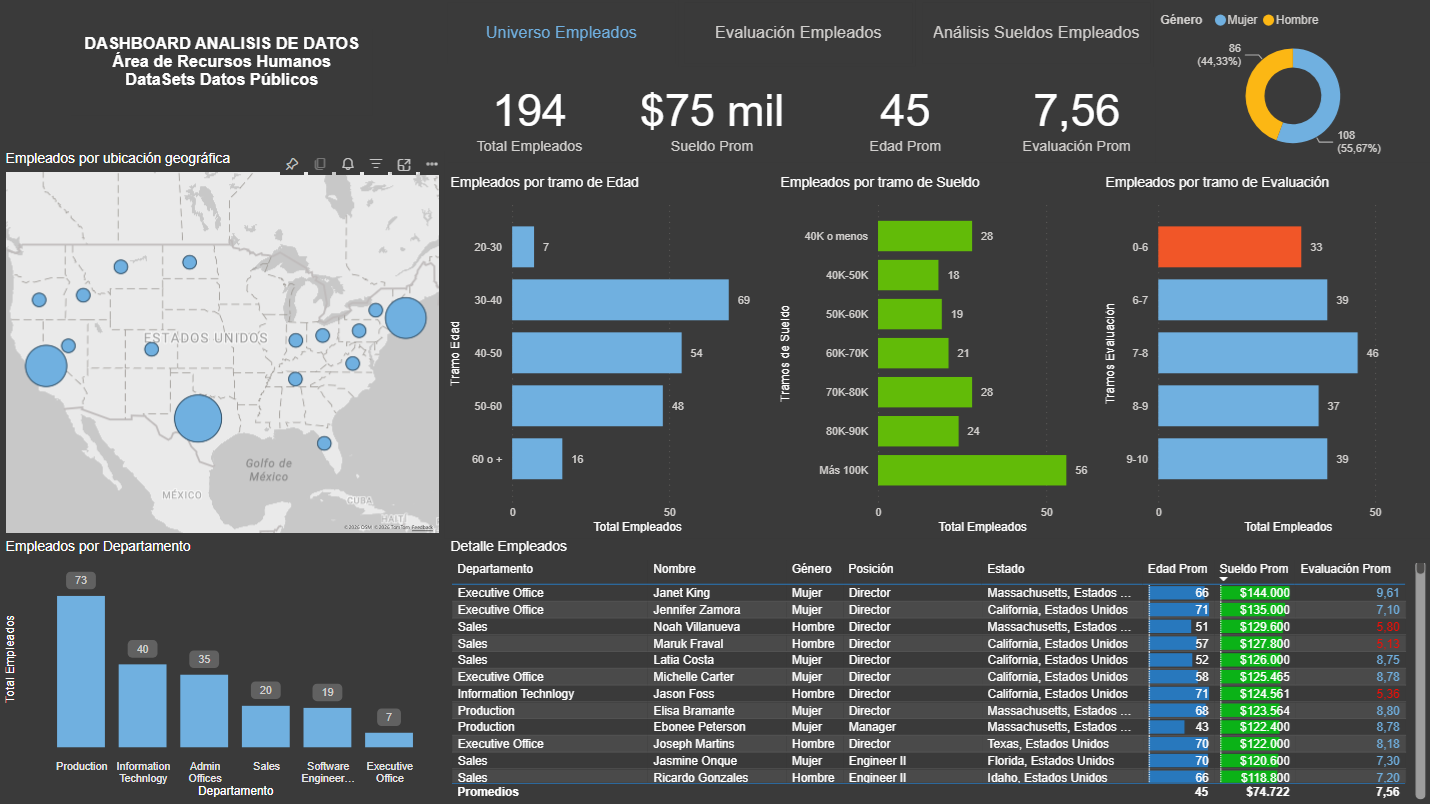

This screenshot's page, from the dashboard's own definition file:
{"tool":"powerbi","page":{"name":"Universo Empleados","canvas":[1280,720],"ordinal":0},"visuals":[{"type":"tableEx","title":"Detalle Empleados","fields":{"Values":["Tabla Empleados.Departamento","Tabla Empleados.Nombre","Tabla Empleados.Géneros","Tabla Empleados.Posición","Tabla Empleados.Estado","Tabla Empleados.Edad Prom","Tabla Sueldo.Sueldo Promedio","Tabla Evaluacion.Evaluación Promedio"]},"box":[397.7,482.9,881.9,237.6],"z":0},{"type":"card","fields":{"Values":["Tabla Empleados.Total Empleados"]},"box":[400.3,63.3,145.9,82.6],"z":1000},{"type":"donutChart","fields":{"Category":["Tabla Empleados.Género_ES"],"Y":["Tabla Empleados.Total Empleados"]},"box":[1033,0,246.6,145.9],"z":2000},{"type":"card","fields":{"Values":["Tabla Sueldo.Sueldo "]},"box":[546.2,63.3,180.8,82.6],"z":3000},{"type":"card","fields":{"Values":["Tabla Evaluacion.Evaluación "]},"box":[892.2,63.3,140.7,82.6],"z":4000},{"type":"card","fields":{"Values":["Tabla Empleados.Edad Prom"]},"box":[726.9,63.3,165.3,82.6],"z":5000},{"type":"barChart","title":"Empleados por tramo de Edad","fields":{"Category":["Tabla Empleados.Tramo Edad"],"Y":["Tabla Empleados.Total Empleados"]},"box":[397.7,157.5,295.7,325.4],"z":6000},{"type":"azureMap","title":"Empleados por ubicación geográfica","fields":{"Category":["Tabla Empleados.Estado"],"Size":["Tabla Empleados.Total Empleados"]},"box":[0,135.6,397.7,347.3],"z":7000},{"type":"columnChart","title":"Empleados por Departamento","fields":{"Category":["Tabla Empleados.Departamento"],"Y":["Tabla Empleados.Total Empleados"]},"box":[0,482.9,397.7,236.3],"z":8000},{"type":"barChart","title":"Empleados por tramo de Sueldo","fields":{"Category":["Tabla Sueldo.Tramos de Sueldo"],"Y":["Tabla Empleados.Total Empleados"]},"box":[693.4,157.5,290.5,325.4],"z":9000},{"type":"barChart","title":"Empleados por tramo de Evaluación","fields":{"Category":["Tabla Evaluacion.Tramos Evaluación"],"Y":["Tabla Empleados.Total Empleados"]},"box":[983.9,157.5,295.7,325.4],"z":10000},{"type":"textbox","box":[63.3,27.1,269.9,77.5],"z":11000},{"type":"actionButton","title":" ","box":[397,0,210,60.8],"z":12000},{"type":"actionButton","title":" ","box":[609.5,0,210,60.7],"z":13000},{"type":"actionButton","title":" ","box":[822,0,210,60.8],"z":14000}]}

Visuals, with their boxes in screenshot pixels (x1, y1, x2, y2), scaled from the page's 1280x720 canvas onto the 1430x804 screenshot:
"Detalle Empleados" tableEx: {"left": 444, "top": 539, "right": 1429, "bottom": 803}
card - Tabla Empleados.Total Empleados: {"left": 447, "top": 71, "right": 610, "bottom": 163}
donutChart - Tabla Empleados.Género_ES x Tabla Empleados.Total Empleados: {"left": 1154, "top": 0, "right": 1429, "bottom": 163}
card - Tabla Sueldo.Sueldo : {"left": 610, "top": 71, "right": 812, "bottom": 163}
card - Tabla Evaluacion.Evaluación : {"left": 997, "top": 71, "right": 1154, "bottom": 163}
card - Tabla Empleados.Edad Prom: {"left": 812, "top": 71, "right": 997, "bottom": 163}
"Empleados por tramo de Edad" barChart: {"left": 444, "top": 176, "right": 775, "bottom": 539}
"Empleados por ubicación geográfica" azureMap: {"left": 0, "top": 151, "right": 444, "bottom": 539}
"Empleados por Departamento" columnChart: {"left": 0, "top": 539, "right": 444, "bottom": 803}
"Empleados por tramo de Sueldo" barChart: {"left": 775, "top": 176, "right": 1099, "bottom": 539}
"Empleados por tramo de Evaluación" barChart: {"left": 1099, "top": 176, "right": 1429, "bottom": 539}
textbox: {"left": 71, "top": 30, "right": 372, "bottom": 117}
" " actionButton: {"left": 444, "top": 0, "right": 678, "bottom": 68}
" " actionButton: {"left": 681, "top": 0, "right": 916, "bottom": 68}
" " actionButton: {"left": 918, "top": 0, "right": 1153, "bottom": 68}
